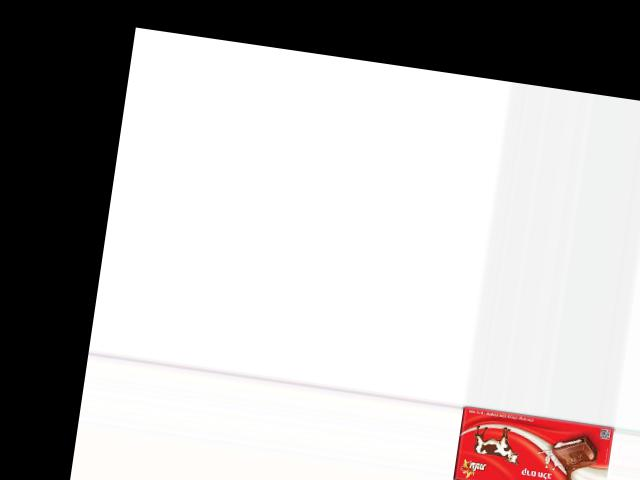chocolate: (450, 404, 614, 480)
